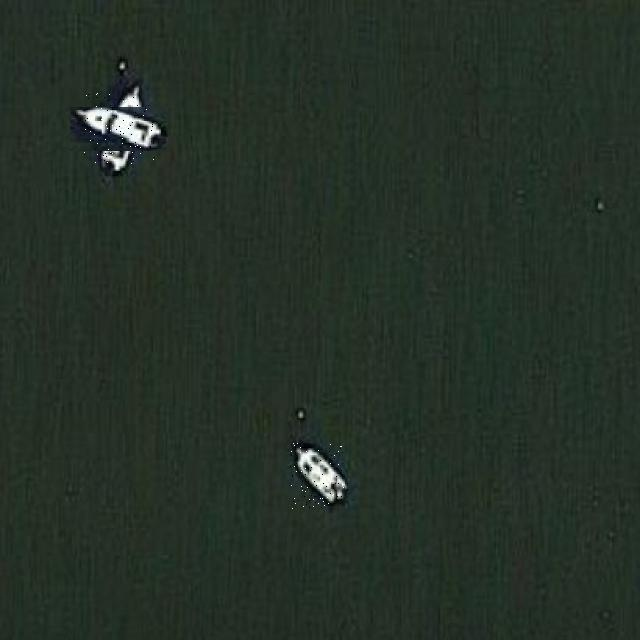boat: (84, 93, 155, 164), (290, 444, 345, 509)
